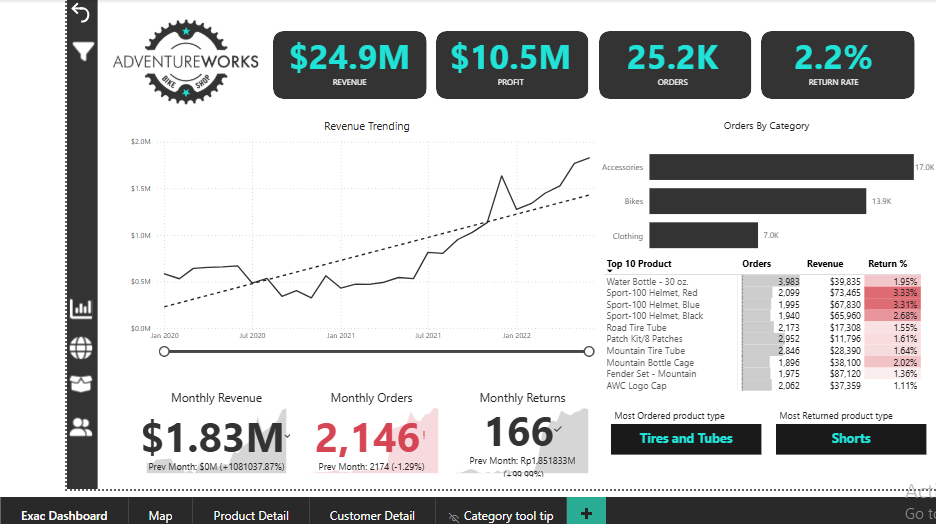

Layout of this report page (visuals, bound fields, positions):
{"tool":"powerbi","page":{"name":"Exac Dashboard","canvas":[1280,720],"ordinal":0},"visuals":[{"type":"card","fields":{"Values":["Measure tables(DAX).Total revenue"]},"box":[263.5,14.3,304.8,149.2],"z":0,"group":"g2"},{"type":"image","title":"AW Logo","box":[22.4,22.4,305.2,141.4],"z":0},{"type":"group","id":"g1","title":"KPI Background","box":[303.5,46.6,943.1,100],"z":0,"group":"g3"},{"type":"shape","box":[303.5,46.6,225.9,100],"z":0,"group":"g1"},{"type":"actionButton","box":[0,434.9,119,41.1],"z":0,"group":"g6"},{"type":"card","fields":{"Values":["Min(Product Subcategories Lookup.SubcategoryName)"]},"box":[800,625.6,220.5,44.9],"z":0,"group":"g4"},{"type":"card","fields":{"Values":["Min(Product Subcategories Lookup.SubcategoryName)"]},"box":[1042.3,625.6,220.5,44.9],"z":0,"group":"g5"},{"type":"shape","title":"Left Nav Background","box":[0,0,45,720.7],"z":1000},{"type":"group","id":"g2","title":"KPI Values","box":[263.5,14.3,1015.9,149.2],"z":1000,"group":"g3"},{"type":"card","fields":{"Values":["Measure tables(DAX).Total profit"]},"box":[500.5,14.3,304.8,149.2],"z":1000,"group":"g2"},{"type":"shape","box":[1020.7,46.6,225.9,100],"z":1000,"group":"g1"},{"type":"actionButton","box":[0,492.2,119,41.1],"z":1000,"group":"g6"},{"type":"textbox","box":[800,598.7,191,38.5],"z":1000,"group":"g4"},{"type":"textbox","box":[1042.3,598.7,191,38.5],"z":1000,"group":"g5"},{"type":"group","id":"g3","title":"KPI","box":[263.5,14.3,1015.9,149.2],"z":2000},{"type":"card","fields":{"Values":["Measure tables(DAX).Total orders"]},"box":[737.6,14.3,304.8,149.2],"z":2000,"group":"g2"},{"type":"shape","box":[543.7,46.6,224.1,100],"z":2000,"group":"g1"},{"type":"actionButton","box":[0,545.1,119,41.1],"z":2000,"group":"g6"},{"type":"card","fields":{"Values":["Measure tables(DAX).Return rate"]},"box":[974.6,14.3,304.8,149.2],"z":3000,"group":"g2"},{"type":"shape","box":[782.2,46.6,224.1,100],"z":3000,"group":"g1"},{"type":"lineChart","title":"Revenue Trending","fields":{"Y":["Measure tables(DAX).Total revenue"],"Category":["Calendar Lookup.Year","Calendar Lookup.Start of Quarter","Calendar Lookup.Start of Month"]},"box":[88.2,174.9,705.3,354.1],"z":3000},{"type":"actionButton","box":[0,608.3,119,41.1],"z":3000,"group":"g6"},{"type":"kpi","title":"Monthly Returns","fields":{"TrendLine":["Calendar Lookup.Start of Month"],"Indicator":["Measure tables(DAX).Total returns"],"Goal":["Measure tables(DAX).previous month return"]},"box":[567.2,573.1,204.2,129.3],"z":4000},{"type":"kpi","title":"Monthly Revenue","fields":{"Indicator":["Measure tables(DAX).Total revenue"],"TrendLine":["Calendar Lookup.Start of Month"],"Goal":["Measure tables(DAX).previous month revenue"]},"box":[111.7,573.1,216,129.3],"z":5000},{"type":"kpi","title":"Monthly Orders","fields":{"TrendLine":["Calendar Lookup.Start of Month"],"Indicator":["Measure tables(DAX).Total orders"],"Goal":["Measure tables(DAX).previous month orders"]},"box":[343.8,573.1,207.2,129.3],"z":6000},{"type":"clusteredBarChart","title":"Orders By Category","fields":{"Category":["Product Categories Lookup.CategoryName"],"Y":["Measure tables(DAX).Total orders"]},"box":[776.3,175,503.9,218.4],"z":7000},{"type":"pivotTable","fields":{"Rows":["Product Lookup.ProductName"],"Values":["Measure tables(DAX).Total orders","Measure tables(DAX).Total revenue","Measure tables(DAX).Return rate"]},"box":[782.6,375.4,497.1,208.7],"z":8000},{"type":"group","id":"g4","title":"Group 1","box":[800,598.7,220.5,71.8],"z":9000},{"type":"group","id":"g5","title":"Group 1","box":[1042.3,598.7,220.5,71.8],"z":10000},{"type":"actionButton","box":[-0.2,0,99.9,39.7],"z":11000},{"type":"group","id":"g6","title":"Navigation Button","box":[0,434.9,119,214.5],"z":12000},{"type":"actionButton","box":[4.4,57.3,45.6,39.7],"z":13000}]}

Visuals, with their boxes on the page's 1280x720 design canvas (x1, y1, x2, y2). These are canvas units, not pixel positions in the 936x524 screenshot, which may show the page scaled, cropped or inside an application window:
card - Measure tables(DAX).Total revenue: bbox(264, 14, 568, 164)
"AW Logo" image: bbox(22, 22, 328, 164)
"KPI Background" group: bbox(304, 47, 1247, 147)
shape: bbox(304, 47, 529, 147)
actionButton: bbox(0, 435, 119, 476)
card - Min(Product Subcategories Lookup.SubcategoryName): bbox(800, 626, 1020, 670)
card - Min(Product Subcategories Lookup.SubcategoryName): bbox(1042, 626, 1263, 670)
"Left Nav Background" shape: bbox(0, 0, 45, 721)
"KPI Values" group: bbox(264, 14, 1279, 164)
card - Measure tables(DAX).Total profit: bbox(500, 14, 805, 164)
shape: bbox(1021, 47, 1247, 147)
actionButton: bbox(0, 492, 119, 533)
textbox: bbox(800, 599, 991, 637)
textbox: bbox(1042, 599, 1233, 637)
"KPI" group: bbox(264, 14, 1279, 164)
card - Measure tables(DAX).Total orders: bbox(738, 14, 1042, 164)
shape: bbox(544, 47, 768, 147)
actionButton: bbox(0, 545, 119, 586)
card - Measure tables(DAX).Return rate: bbox(975, 14, 1279, 164)
shape: bbox(782, 47, 1006, 147)
"Revenue Trending" lineChart: bbox(88, 175, 794, 529)
actionButton: bbox(0, 608, 119, 649)
"Monthly Returns" kpi: bbox(567, 573, 771, 702)
"Monthly Revenue" kpi: bbox(112, 573, 328, 702)
"Monthly Orders" kpi: bbox(344, 573, 551, 702)
"Orders By Category" clusteredBarChart: bbox(776, 175, 1280, 393)
pivotTable - Product Lookup.ProductName x Measure tables(DAX).Total orders: bbox(783, 375, 1280, 584)
"Group 1" group: bbox(800, 599, 1020, 670)
"Group 1" group: bbox(1042, 599, 1263, 670)
actionButton: bbox(0, 0, 100, 40)
"Navigation Button" group: bbox(0, 435, 119, 649)
actionButton: bbox(4, 57, 50, 97)
